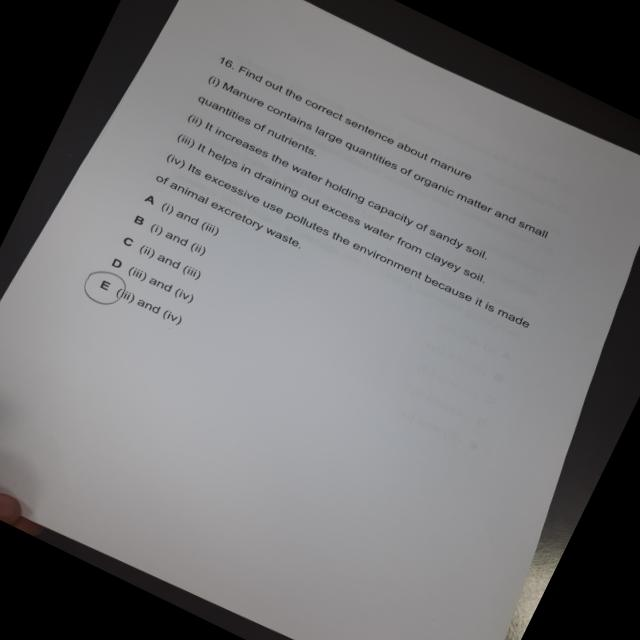E: (71, 259, 134, 317)
